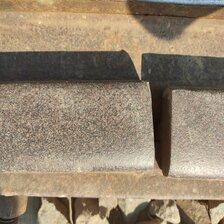railway-gap: (93, 64, 224, 206)
